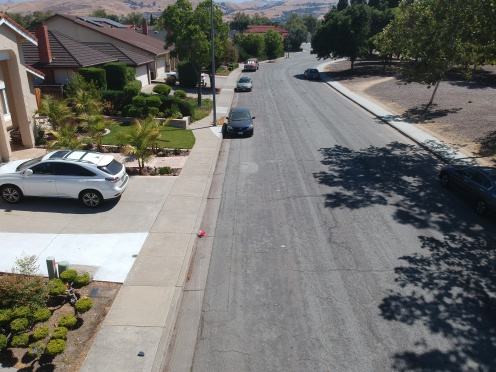can: (136, 348, 148, 357)
plastic bag: (195, 228, 207, 237)
